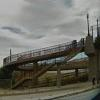Bridge: (7, 38, 89, 73)
